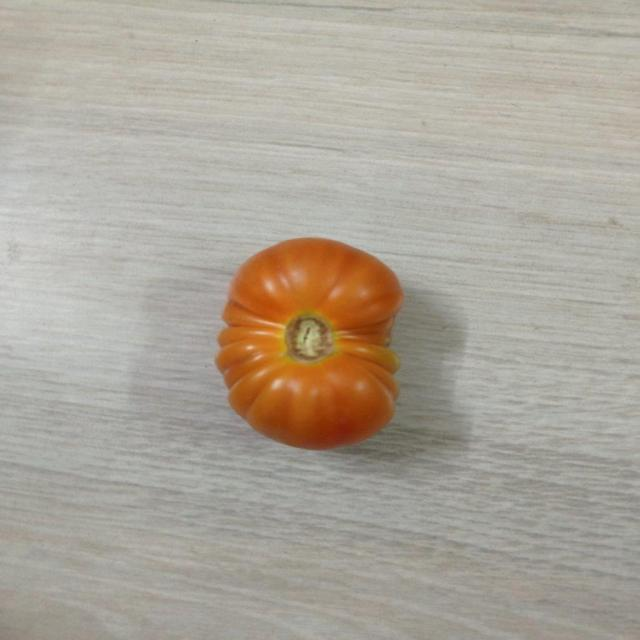Tomato: (218, 233, 407, 454)
